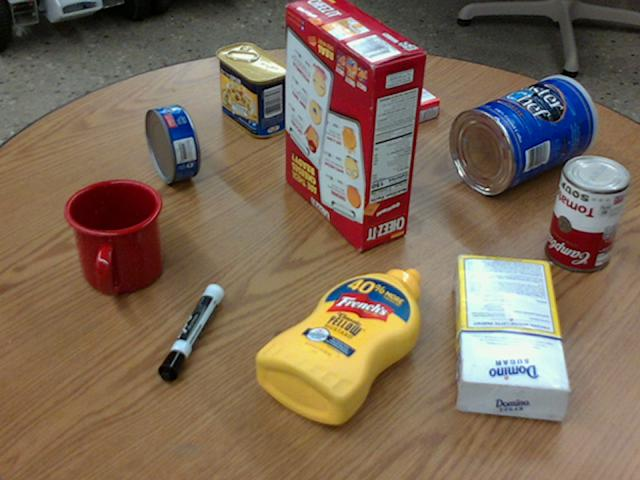cracker_box: (283, 0, 425, 249)
gelatin_box: (356, 73, 438, 129)
large_marker: (157, 283, 222, 380)
master_chef_can: (449, 75, 595, 193)
mug: (64, 179, 163, 295)
mustard_bottle: (255, 267, 419, 425)
potted_meat_can: (214, 43, 288, 137)
sugar_box: (452, 254, 571, 419)
tomato_soup_can: (544, 153, 628, 269)
tuna_fish_can: (146, 105, 198, 182)
